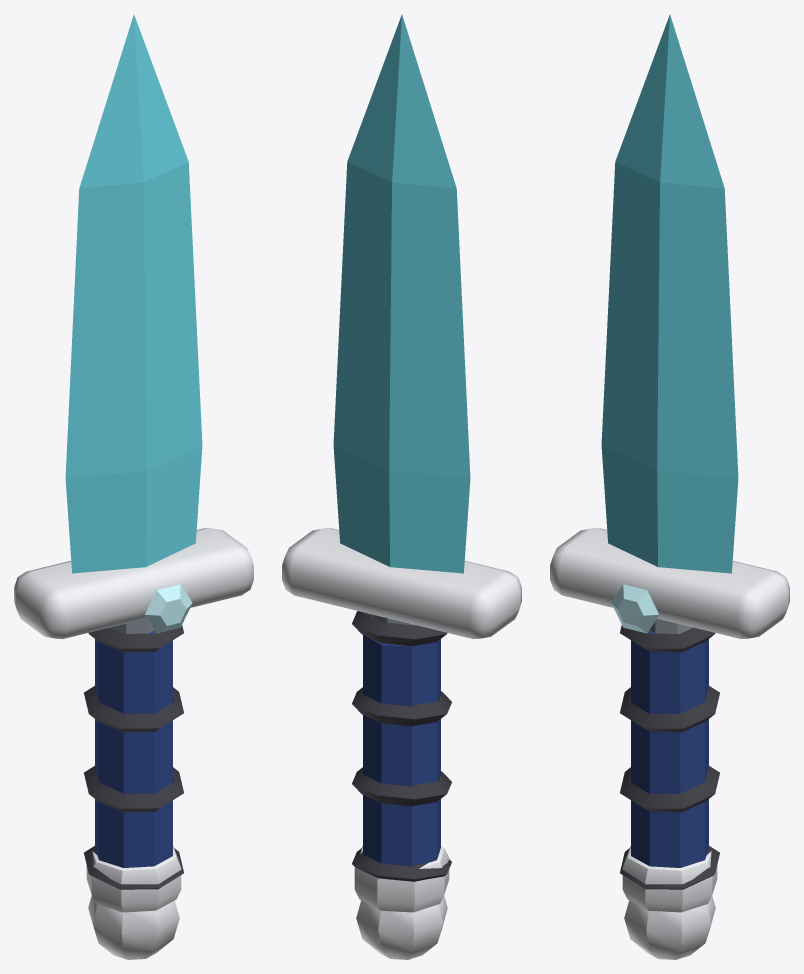
File: DiamondDagger.fbx
3 views of the same model, side by side, from view 1: azimuth 30°, elevation 25°; view 2: azimuth 150°, elevation 25°; view 3: azimuth 330°, elevation 25° (orthographic).
Visible parts, largest first — view 1: DiamondDagger; view 2: DiamondDagger; view 3: DiamondDagger.
Boxes of the visible parts, left/top/right/bottom form: DiamondDagger: left=14, top=14, right=253, bottom=959; DiamondDagger: left=282, top=14, right=521, bottom=959; DiamondDagger: left=550, top=14, right=789, bottom=959.
Bounding box in the file's own units: 0.62 × 2.63 × 0.3307.
Materials: 1 (1 with a texture image).
